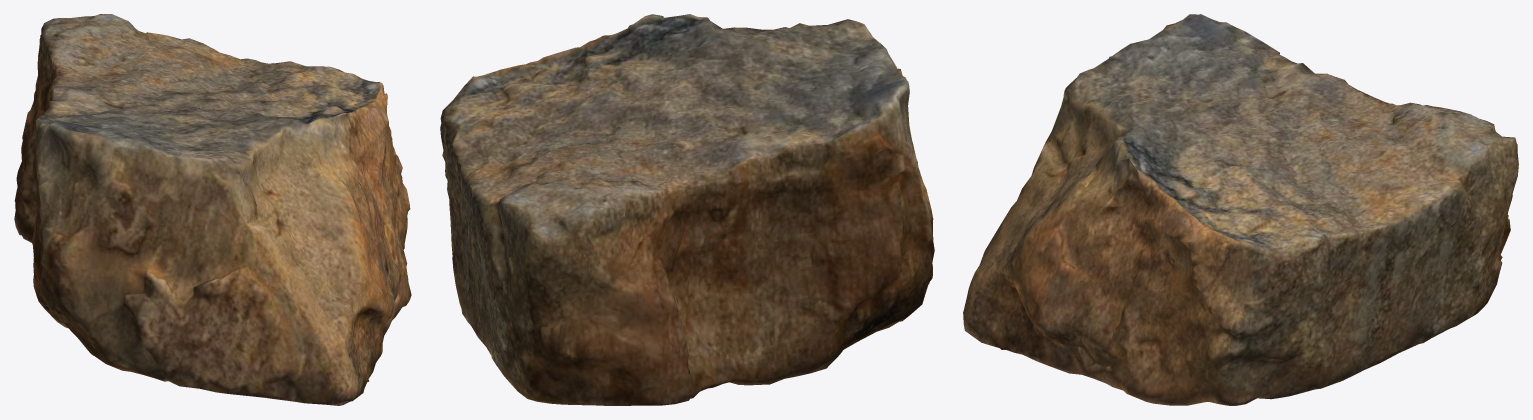
The model's file is desert_boulder_a.glb.
The picture shows the model from 3 angles, left to right: view 1: azimuth 30°, elevation 25°; view 2: azimuth 150°, elevation 25°; view 3: azimuth 270°, elevation 25°; orthographic projection. The views are drawn at different scales.
Visible parts, largest first — view 1: boulder_03_LOD0; view 2: boulder_03_LOD0; view 3: boulder_03_LOD0.
Part boxes in pixels (x1=…): boulder_03_LOD0: x1=14, y1=14, x2=411, y2=405; boulder_03_LOD0: x1=440, y1=14, x2=934, y2=405; boulder_03_LOD0: x1=963, y1=14, x2=1518, y2=405.
Size of the model in its own units: 2.4 by 1.47 by 3.06.
Materials: 1 (1 with a texture image).
